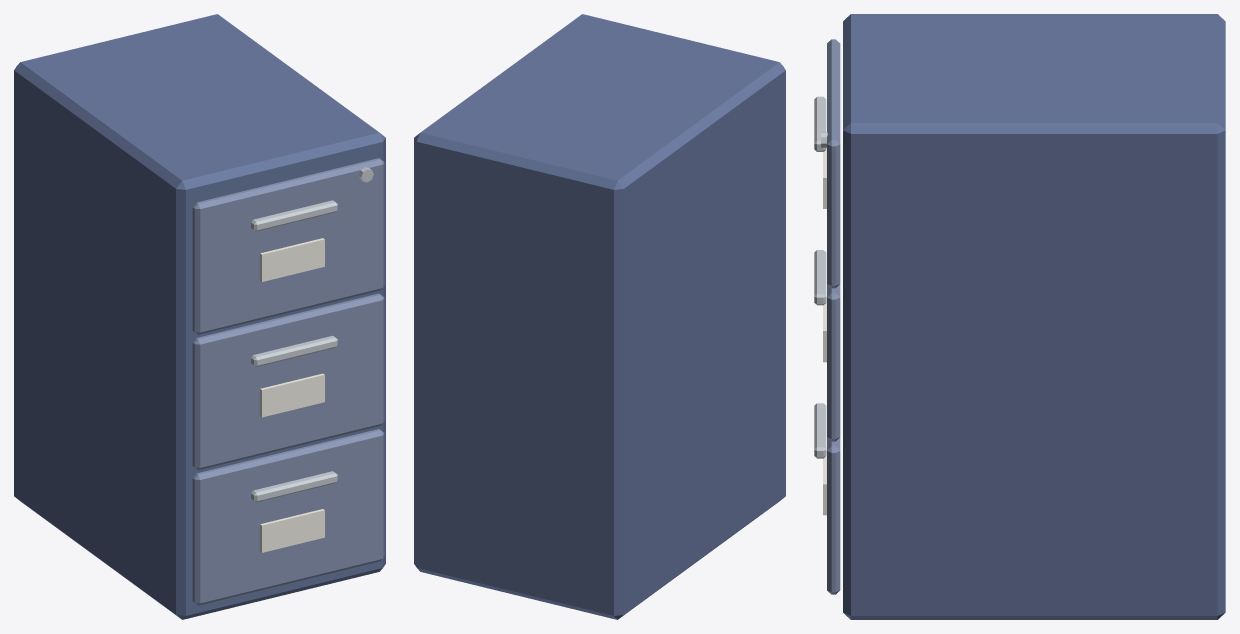
The model's file is filing_cabinet.glb.
3 views of the same model, side by side, from view 1: azimuth 30°, elevation 25°; view 2: azimuth 150°, elevation 25°; view 3: azimuth 270°, elevation 25° (orthographic). The views are drawn at different scales.
Parts seen in each view (by area): view 1: filing_cabinet_Body; view 2: filing_cabinet_Body; view 3: filing_cabinet_Body.
Boxes of the visible parts, x1,y1,x2,y2 form: filing_cabinet_Body: (14, 14, 385, 619); filing_cabinet_Body: (414, 14, 785, 619); filing_cabinet_Body: (814, 14, 1225, 619).
Bounding box in the file's own units: 0.4 × 0.8 × 0.6.
